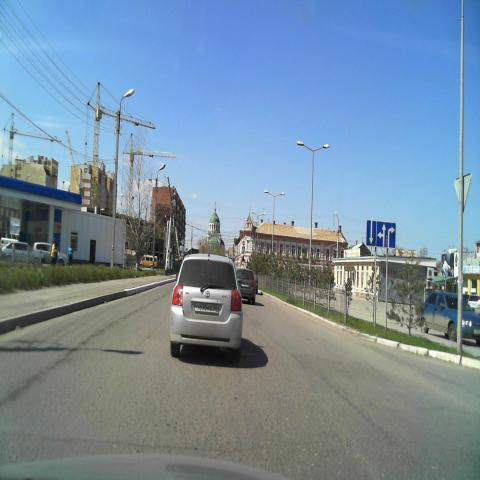5_15_7: (366, 219, 396, 249)
